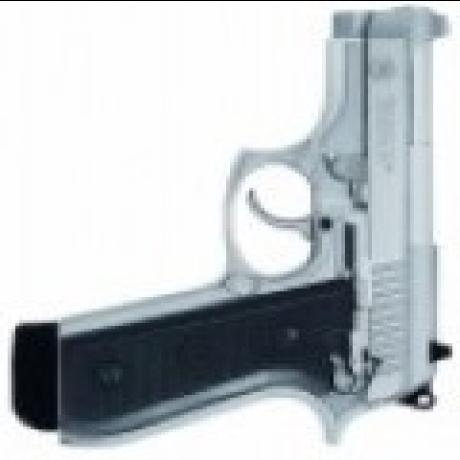weapon: (27, 4, 454, 448)
